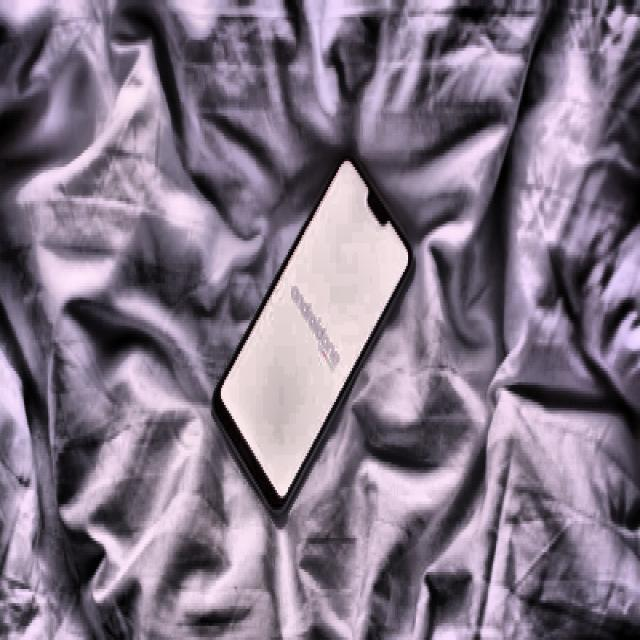Phone: (213, 150, 414, 524)
